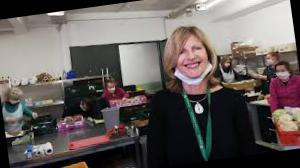mask_weared_incorrect: (178, 46, 213, 89)
with_mask: (275, 66, 290, 80), (8, 97, 22, 106), (107, 83, 118, 94), (265, 55, 275, 65), (222, 60, 233, 69)
